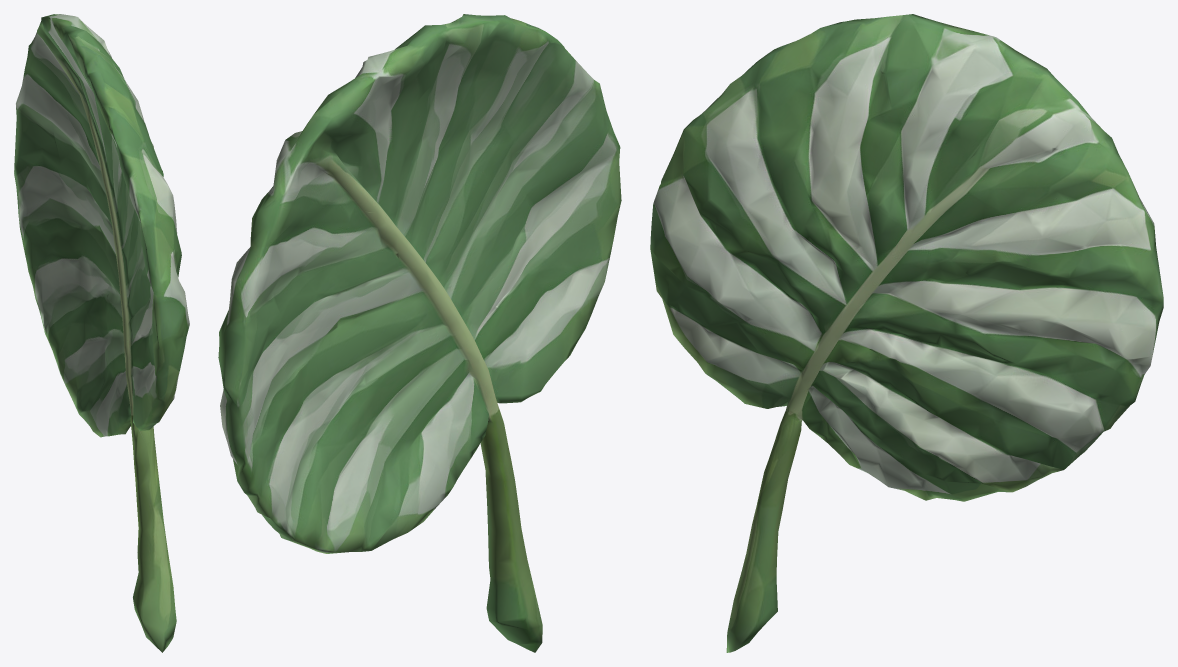
The model's file is ca_leaf_mature.glb.
3 renders of one model, left to right at view 1: azimuth 30°, elevation 25°; view 2: azimuth 150°, elevation 25°; view 3: azimuth 270°, elevation 25°, orthographic. The views are drawn at different scales.
Visible parts, largest first — view 1: tripo_node_d3dc1876-2aea-45dd-bf00-ae8714d6d0e4; view 2: tripo_node_d3dc1876-2aea-45dd-bf00-ae8714d6d0e4; view 3: tripo_node_d3dc1876-2aea-45dd-bf00-ae8714d6d0e4.
Boxes of the visible parts, box(x1,y1,x2,y2) form: tripo_node_d3dc1876-2aea-45dd-bf00-ae8714d6d0e4: box(14, 14, 189, 652); tripo_node_d3dc1876-2aea-45dd-bf00-ae8714d6d0e4: box(218, 14, 621, 652); tripo_node_d3dc1876-2aea-45dd-bf00-ae8714d6d0e4: box(650, 14, 1163, 652).
Bounding box in the file's own units: 0.2226 × 1 × 0.732.
Materials: 1 (1 with a texture image).
